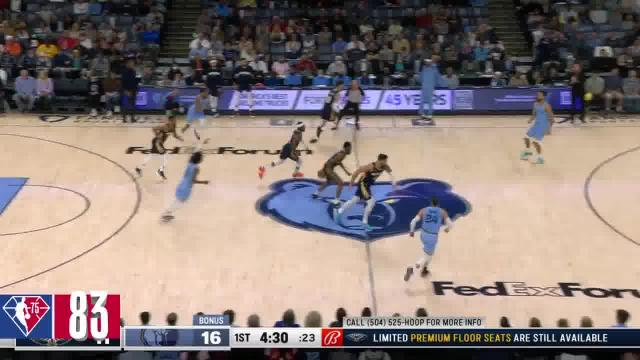ball-handler: (252, 113, 326, 182)
player: (331, 150, 396, 233), (403, 194, 453, 283), (160, 148, 209, 225), (134, 116, 182, 180), (312, 140, 353, 207), (522, 87, 553, 164), (181, 86, 211, 145), (319, 76, 343, 143)
